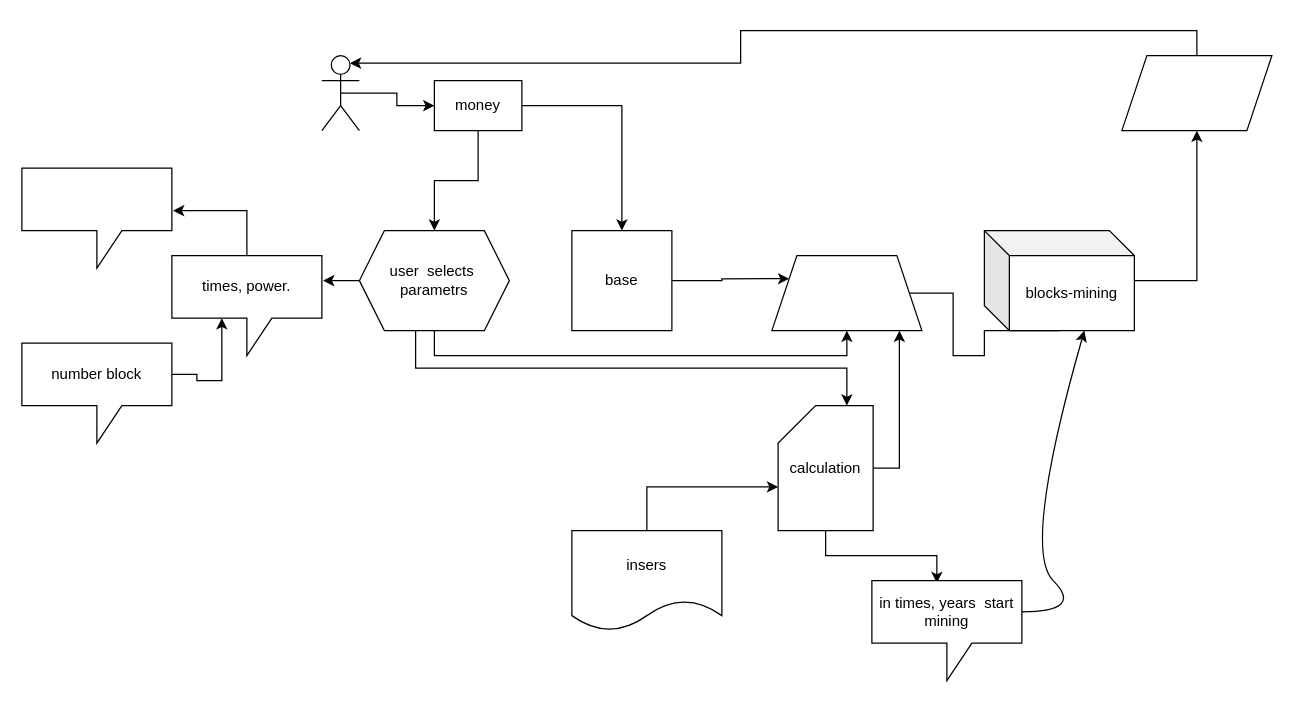
Some shapes in this 1294 by 703 pixel diagram are drawn without their labels. The shapes that lost their labels are listed below. From the top down, each one's centre as x and y in pixels, then its label:
point 340,92: Actor
point 1196,92: bitcoin
point 96,217: times post
point 846,292: asiq
